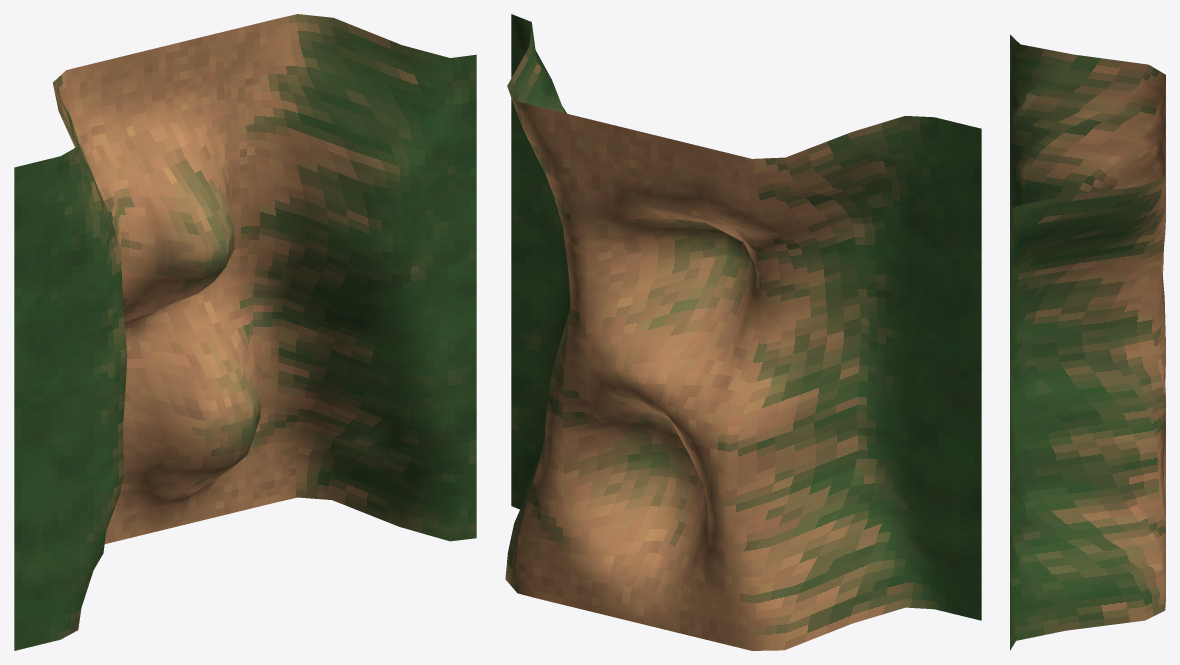
File: ditch.fbx
3 views of the same model, side by side, from view 1: azimuth 30°, elevation 25°; view 2: azimuth 150°, elevation 25°; view 3: azimuth 270°, elevation 25° (orthographic). The views are drawn at different scales.
Visible parts, largest first — view 1: Plane01_None; view 2: Plane01_None; view 3: Plane01_None.
Part boxes in pixels (x1,y1,x2,y2): Plane01_None: (14, 14, 476, 650); Plane01_None: (505, 14, 981, 650); Plane01_None: (1010, 34, 1165, 650).
Bounding box in the file's own units: 61.53 × 61.53 × 20.01.
1 material, 1 textured.
